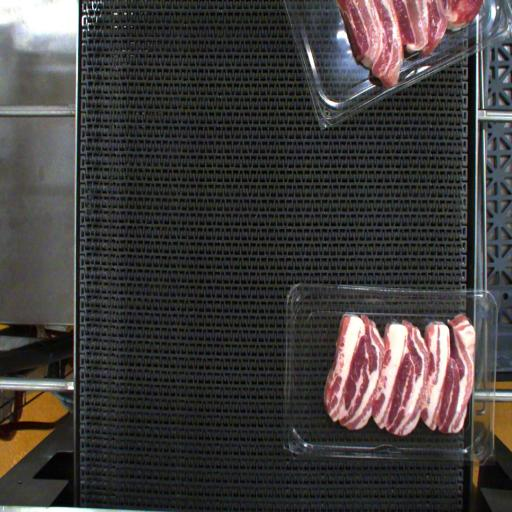twisted-meat: (449, 303, 475, 400)
